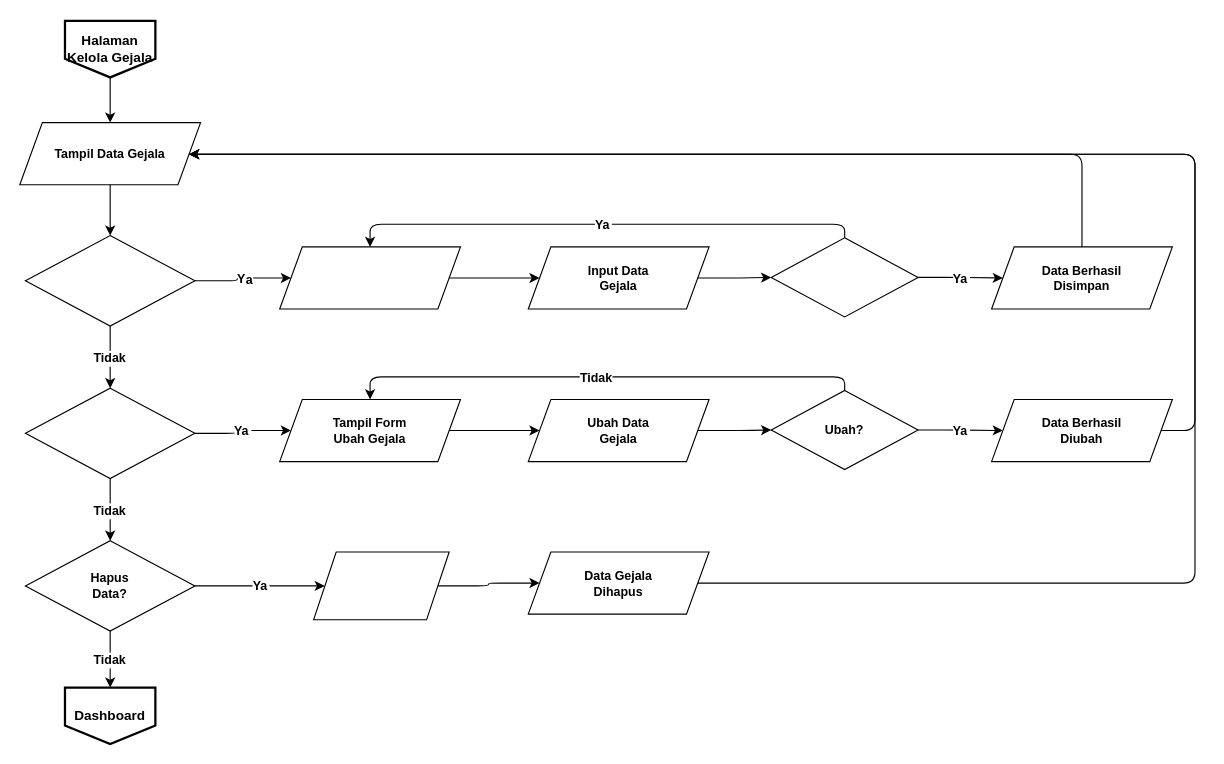
Some shapes in this 1224 by 764 pixel diagram are drawn without their labels. Each missing label, with the box of its shape:
Simpan?: (770, 237, 918, 317)
Tambah Data?: (24, 234, 195, 326)
Tampil Form Tambah Gejala: (279, 246, 460, 309)
Tampil Pesan Konfirmasi Hapus: (312, 551, 449, 620)
Ubah Data?: (24, 387, 195, 479)
